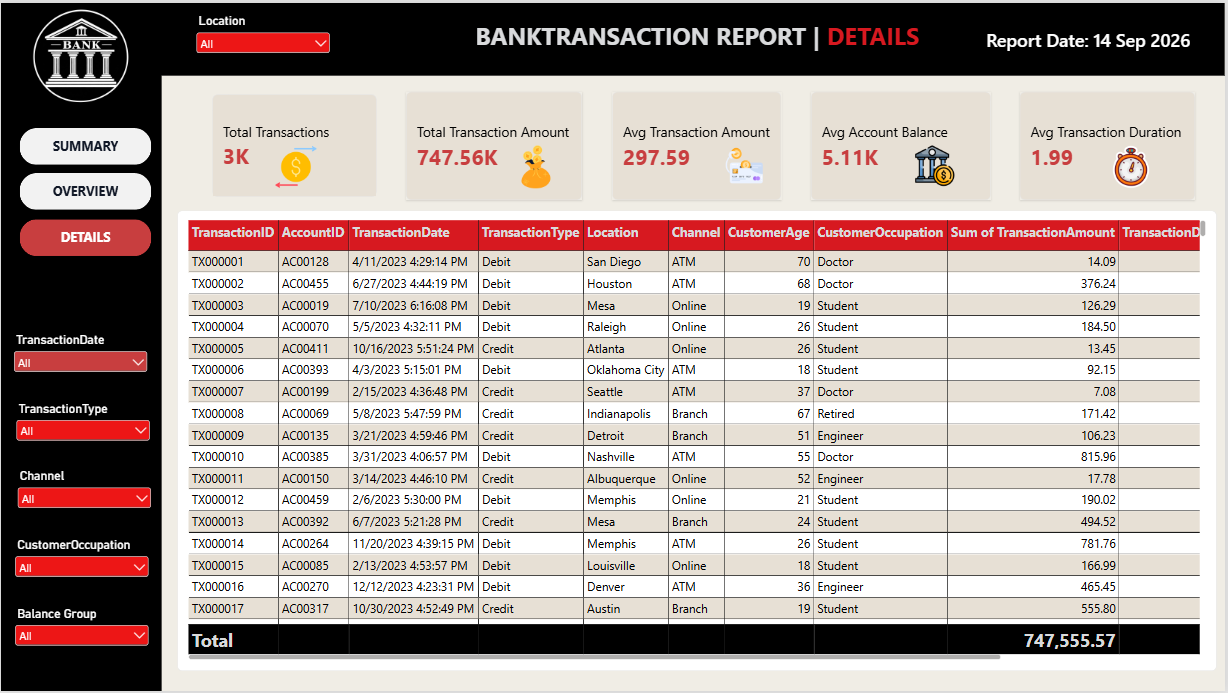

What the dashboard file says about the page in this screenshot:
{"tool":"powerbi","page":{"name":"Details","canvas":[1920,1080],"ordinal":2},"visuals":[{"type":"tableEx","fields":{"Values":["Bank_Transactions.TransactionID","Bank_Transactions.AccountID","Bank_Transactions.TransactionDate","Bank_Transactions.TransactionType","Bank_Transactions.Location","Bank_Transactions.Channel","Bank_Transactions.CustomerAge","Bank_Transactions.CustomerOccupation","Sum(Bank_Transactions.TransactionAmount)","Bank_Transactions.TransactionDuration","Bank_Transactions.LoginAttempts","Bank_Transactions.AccountBalance"]},"box":[276.9,325.7,1630.5,722.1],"z":1000},{"type":"shape","box":[0,0,252,1080.4],"z":2000},{"type":"shape","box":[251.5,0,1668.5,114],"z":3000},{"type":"textbox","box":[620.7,25.3,941,61.5],"z":4000},{"type":"image","box":[7.2,9,237.1,150.2],"z":5000},{"type":"cardVisual","fields":{"Data":["Measures (2).Total Transaction Amount"]},"box":[635.8,139.3,276.7,170.2],"z":15008},{"type":"cardVisual","fields":{"Data":["Measures (2).Avg Transaction Amount"]},"box":[958.4,139.3,265.5,170.2],"z":15009},{"type":"cardVisual","fields":{"Data":["Measures (2).Avg Account Balance"]},"box":[1269.7,139.3,282.4,170.2],"z":15010},{"type":"cardVisual","fields":{"Data":["Measures (2).Avg Transaction Duration"]},"box":[1597.9,139.3,275.1,170.1],"z":15011},{"type":"slicer","fields":{"Values":["Bank_Transactions.TransactionType"]},"box":[19.9,624.8,219,81.4],"z":15012},{"type":"slicer","fields":{"Values":["Bank_Transactions.Channel"]},"box":[21.7,732,219,81.4],"z":15013},{"type":"slicer","fields":{"Values":["Bank_Transactions.CustomerOccupation"]},"box":[18.1,839.2,219,81.4],"z":15014},{"type":"slicer","fields":{"Values":["Bank_Transactions.Balance Group"]},"box":[18.1,946.5,219,76],"z":15015},{"type":"slicer","fields":{"Values":["Bank_Transactions.Location"]},"box":[302.2,18.1,219,76],"z":15016},{"type":"slicer","fields":{"Values":["Bank_Transactions.TransactionDate"]},"box":[16.3,517.6,219,81.4],"z":15017},{"type":"actionButton","box":[29,195.4,206.3,57.9],"z":15018},{"type":"actionButton","box":[29,266,206.3,57.9],"z":15019},{"type":"actionButton","box":[29,338.4,206.3,57.9],"z":15020},{"type":"cardVisual","fields":{"Data":["Measures (2).Total Transactions"]},"box":[331.2,143,258.8,161.1],"z":15022},{"type":"image","box":[801.7,224.4,74.2,67],"z":15023},{"type":"image","box":[1123.8,220.8,85.1,67],"z":15024},{"type":"image","box":[1427.8,220.8,74.2,67],"z":15025},{"type":"image","box":[1735.5,224.4,74.2,67],"z":15026},{"type":"image","box":[425.3,222.6,74.2,67],"z":15027},{"type":"cardVisual","fields":{"Data":["Measures (2).Report Date"]},"box":[1529.2,9,361.9,95.9],"z":15028}]}

Visuals, with their boxes in screenshot pixels (x1, y1, x2, y2), scaled from the page's 1920x1080 canvas onto the 1228x693 screenshot:
tableEx - Bank_Transactions.TransactionID x Bank_Transactions.AccountID: <box>177,209,1220,672</box>
shape: <box>0,0,161,692</box>
shape: <box>161,0,1227,73</box>
textbox: <box>397,16,999,56</box>
image: <box>5,6,156,102</box>
cardVisual - Measures (2).Total Transaction Amount: <box>407,89,584,199</box>
cardVisual - Measures (2).Avg Transaction Amount: <box>613,89,783,199</box>
cardVisual - Measures (2).Avg Account Balance: <box>812,89,993,199</box>
cardVisual - Measures (2).Avg Transaction Duration: <box>1022,89,1198,199</box>
slicer - Bank_Transactions.TransactionType: <box>13,401,153,453</box>
slicer - Bank_Transactions.Channel: <box>14,470,154,522</box>
slicer - Bank_Transactions.CustomerOccupation: <box>12,538,152,591</box>
slicer - Bank_Transactions.Balance Group: <box>12,607,152,656</box>
slicer - Bank_Transactions.Location: <box>193,12,333,60</box>
slicer - Bank_Transactions.TransactionDate: <box>10,332,150,384</box>
actionButton: <box>19,125,150,163</box>
actionButton: <box>19,171,150,208</box>
actionButton: <box>19,217,150,254</box>
cardVisual - Measures (2).Total Transactions: <box>212,92,377,195</box>
image: <box>513,144,560,187</box>
image: <box>719,142,773,185</box>
image: <box>913,142,961,185</box>
image: <box>1110,144,1157,187</box>
image: <box>272,143,319,186</box>
cardVisual - Measures (2).Report Date: <box>978,6,1210,67</box>
